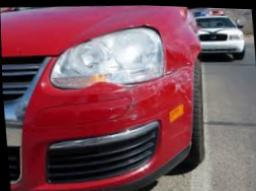Bonnet: (59, 4, 169, 51)
Bumper: (56, 63, 195, 156)
Fender: (157, 8, 200, 73)
